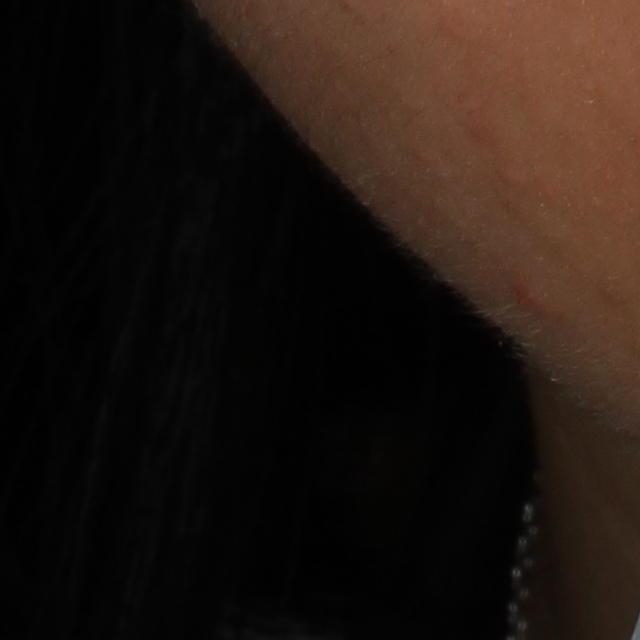papule: (509, 279, 555, 321)
